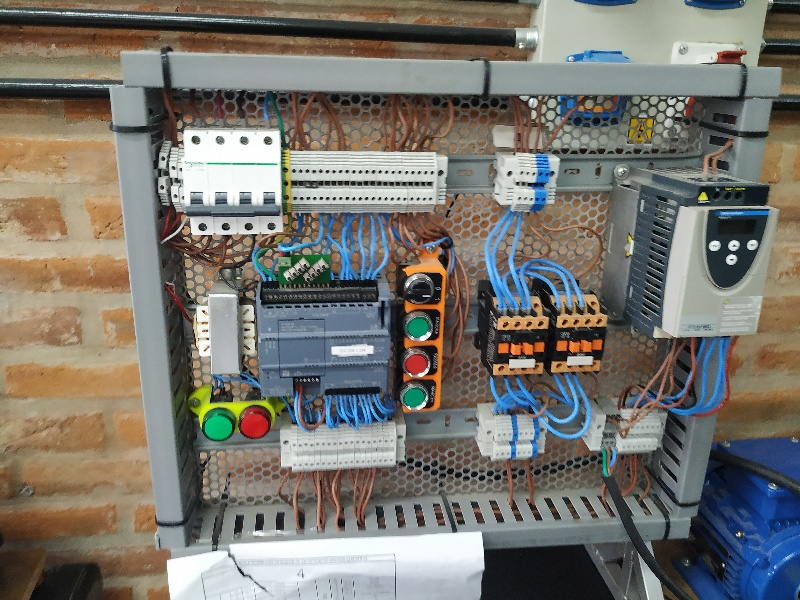Tablero 4: (137, 71, 778, 532)
